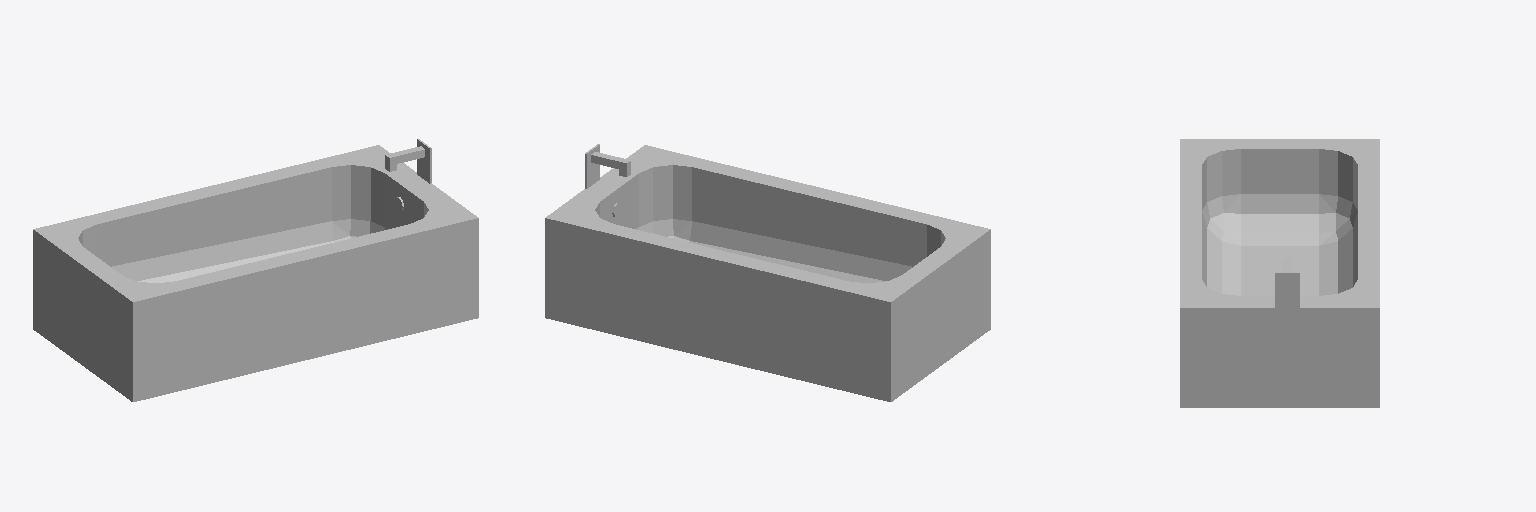
Rendered from tub.obj.
3 views of the same model, side by side, from view 1: azimuth 30°, elevation 25°; view 2: azimuth 150°, elevation 25°; view 3: azimuth 270°, elevation 25° (orthographic).
Bounding box in the file's own units: 6.46 × 2.42 × 3.23.